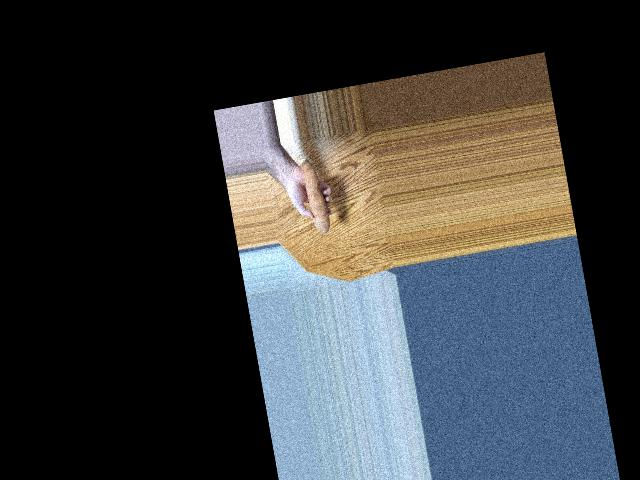sweet_potato: (301, 157, 337, 237)
